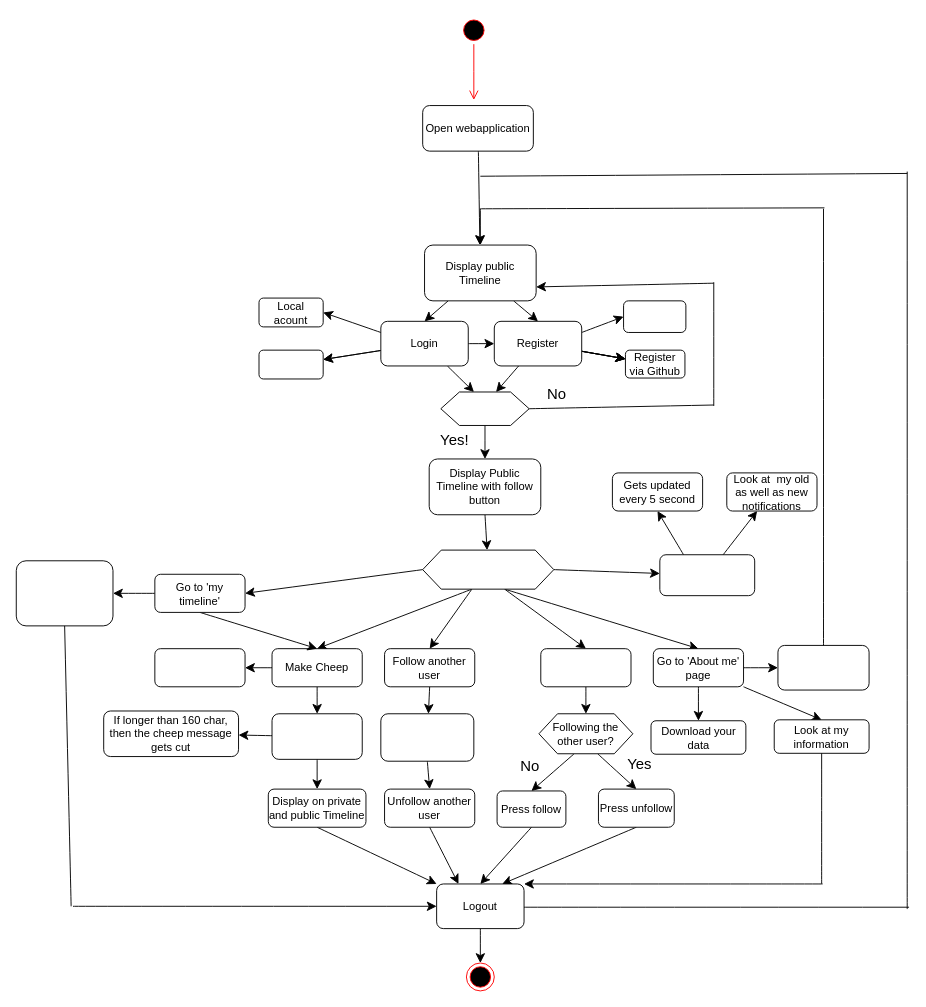
This 926x1007 diagram has some shape labels left out. Here are the shapes that lost their labels. From the top down, the centre of each, then its label:
(x=654, y=316): Create new account
(x=290, y=364): Login with Github
(x=484, y=408): Succesful?
(x=488, y=569): What to do?
(x=707, y=575): Go to 'Notification' page
(x=64, y=593): Look at all of my cheeps, including the ones I'm tagged in
(x=199, y=667): Tag another user
(x=585, y=667): Visit another user's timeline
(x=823, y=667): Delete my profile (forget me button)
(x=316, y=736): Share
(x=427, y=737): Display public timeline with unfollow button
